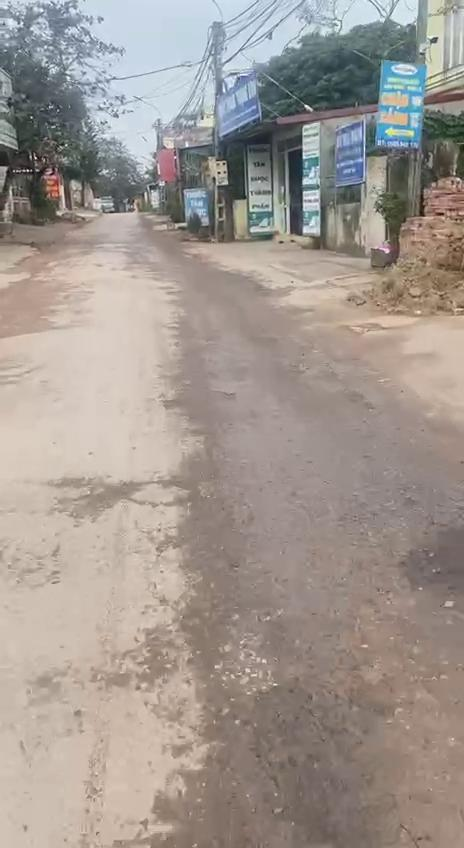pothole: (194, 610, 366, 848), (43, 466, 182, 532)
